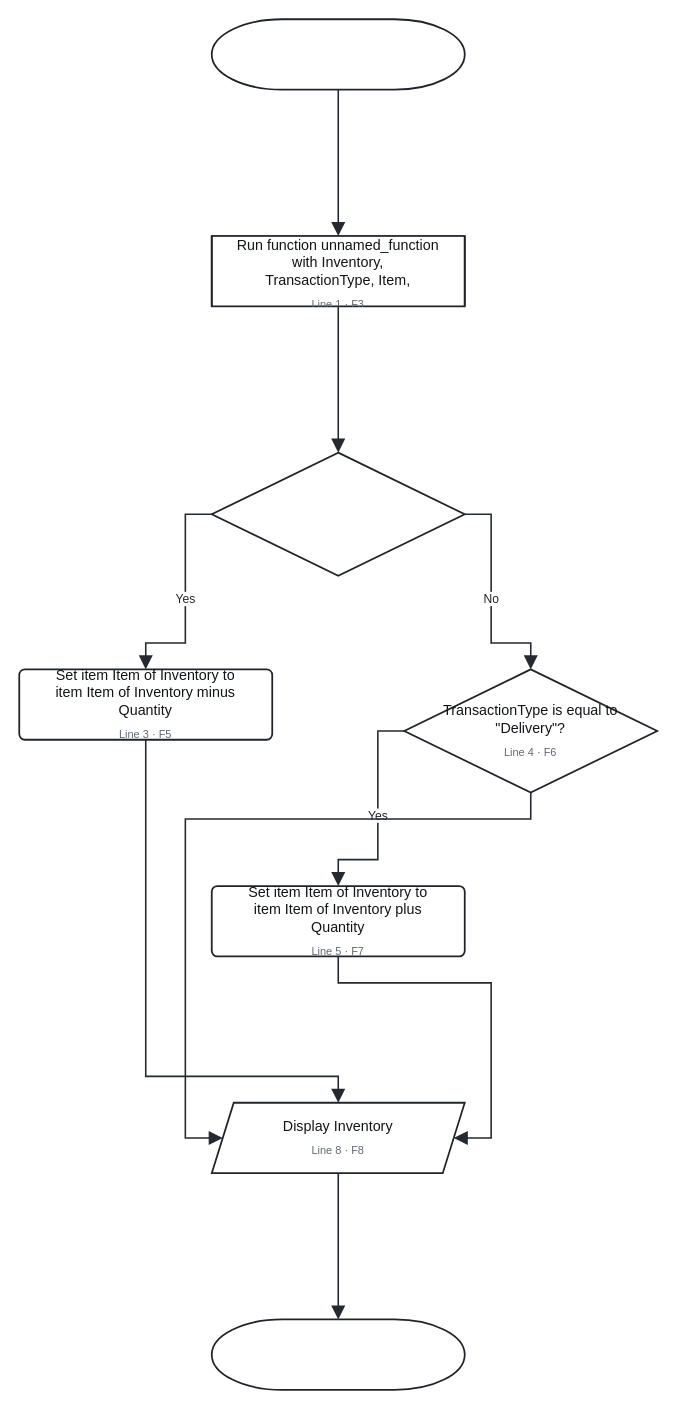
Some shapes in this 678 by 1410 pixel diagram are drawn without their labels. Here are the shapes that lost their labels. From the top down, the centre of each, then its label:
the point at 337,54: Start Line 1 · F1
the point at 337,513: TransactionType is equal to "Purchase"? Line 2 · F4
the point at 337,1354: End Line 1 · F2
